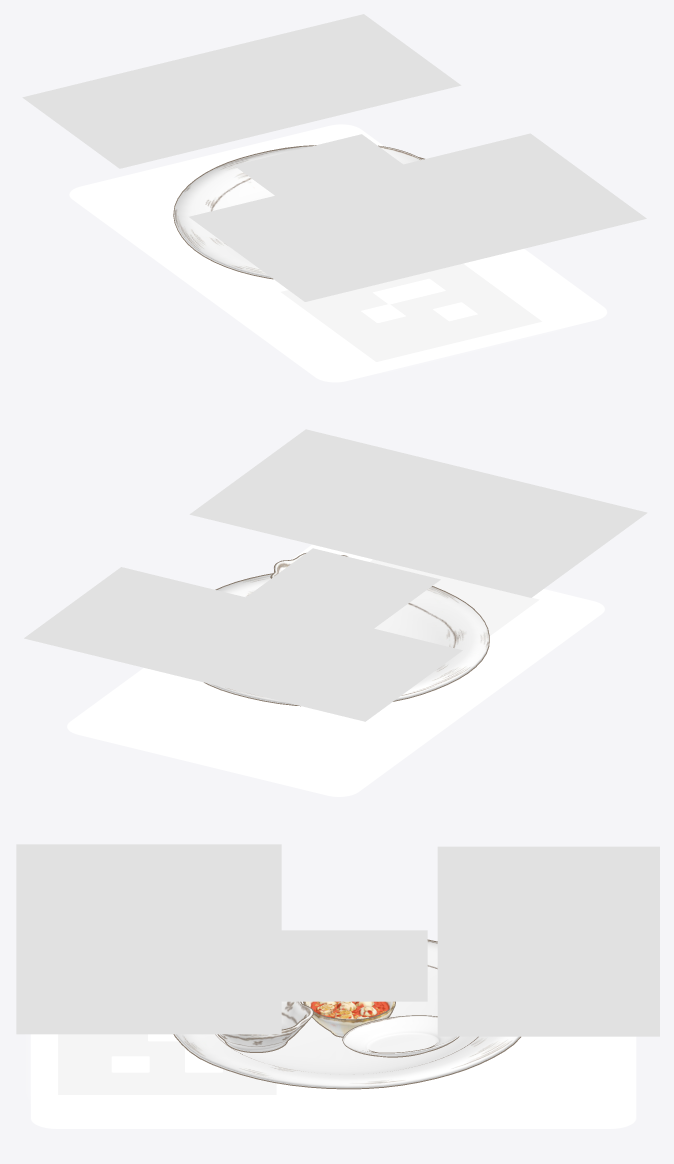
File: asset.glb
3 views of the same model, one above another, from view 1: azimuth 30°, elevation 25°; view 2: azimuth 150°, elevation 25°; view 3: azimuth 270°, elevation 25° (orthographic). The views are drawn at different scales.
Parts seen in each view (by area): view 1: IMG_9514, IMG_9515, IMG_9516, Cylinder, IMG_9517; view 2: IMG_9515, IMG_9514, IMG_9516, IMG_9517, Cylinder; view 3: IMG_9515, IMG_9514, IMG_9516, Cylinder, IMG_9517, Circle, Cylinder.003, Cylinder.002, Cylinder.001.
Boxes of the visible parts, x1=… form: IMG_9514: x1=69, y1=124, x2=607, y2=382; IMG_9515: x1=189, y1=133, x2=646, y2=301; IMG_9516: x1=22, y1=14, x2=461, y2=168; Cylinder: x1=173, y1=145, x2=424, y2=279; IMG_9517: x1=234, y1=134, x2=402, y2=195; IMG_9515: x1=189, y1=429, x2=647, y2=597; IMG_9514: x1=67, y1=544, x2=604, y2=796; IMG_9516: x1=24, y1=567, x2=462, y2=721; IMG_9517: x1=246, y1=548, x2=440, y2=628; Cylinder: x1=204, y1=573, x2=489, y2=706; IMG_9515: x1=16, y1=844, x2=281, y2=1034; IMG_9514: x1=30, y1=1034, x2=636, y2=1128; IMG_9516: x1=437, y1=846, x2=659, y2=1036; Cylinder: x1=173, y1=939, x2=520, y2=1089; IMG_9517: x1=281, y1=930, x2=427, y2=1001; Circle: x1=342, y1=1015, x2=459, y2=1057; Cylinder.003: x1=217, y1=1001, x2=314, y2=1052; Cylinder.002: x1=310, y1=1001, x2=388, y2=1019; Cylinder.001: x1=303, y1=1001, x2=395, y2=1037.
Bounding box in the file's own units: 2.18 × 0.5448 × 2.94.
Materials: 9 (5 with a texture image).
